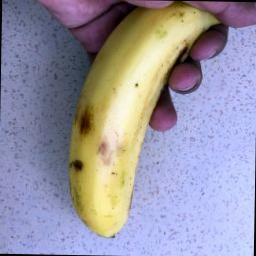Banana Ripe: (40, 2, 230, 256)
